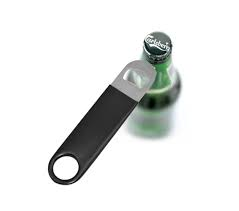bottleopener: (50, 59, 157, 184)
